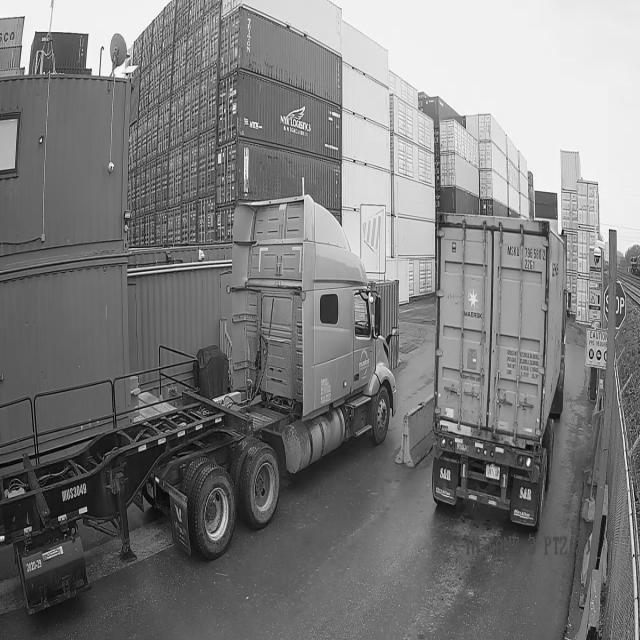container_company_logo: (463, 291, 484, 327)
container_number: (506, 237, 549, 276)
truck_trailer: (0, 195, 398, 612)
truck_with_container: (428, 213, 568, 529)
